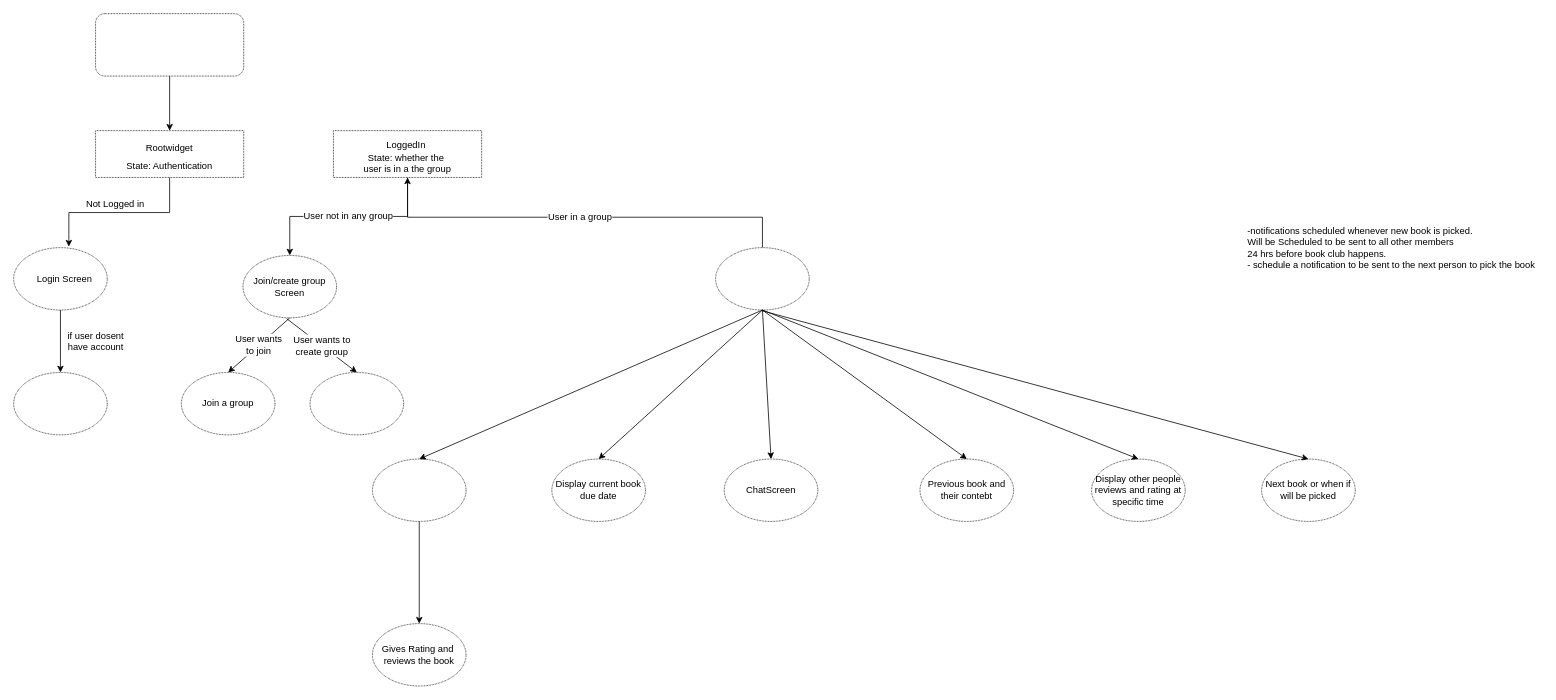
The diagram is 1556 pixels wide and 700 high, and some of its shapes have lost their labels. Here are the shapes that lost their labels. From the top down, the centre of each, then its label:
At (x=169, y=44): "Myapp".
At (x=762, y=278): "Group Screen".
At (x=60, y=403): "Signup screen and create a profile".
At (x=356, y=403): "Create a Group".
At (x=419, y=489): "Finished current Book".
